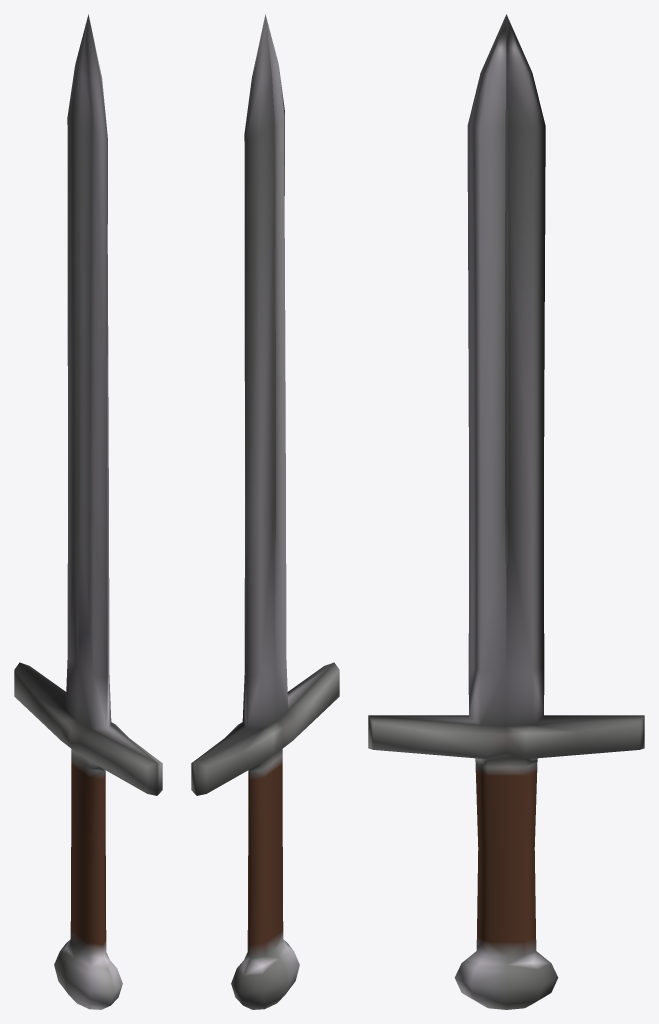
The model's file is SteelSword.fbx.
3 views of the same model, side by side, from view 1: azimuth 30°, elevation 25°; view 2: azimuth 150°, elevation 25°; view 3: azimuth 270°, elevation 25° (orthographic).
Parts seen in each view (by area): view 1: Plane.014; view 2: Plane.014; view 3: Plane.014.
Boxes of the visible parts, bbox=[...] form: Plane.014: bbox=[14, 14, 162, 1009]; Plane.014: bbox=[191, 14, 339, 1009]; Plane.014: bbox=[368, 14, 644, 1009].
Bounding box in the file's own units: 29.2 × 613 × 154.
